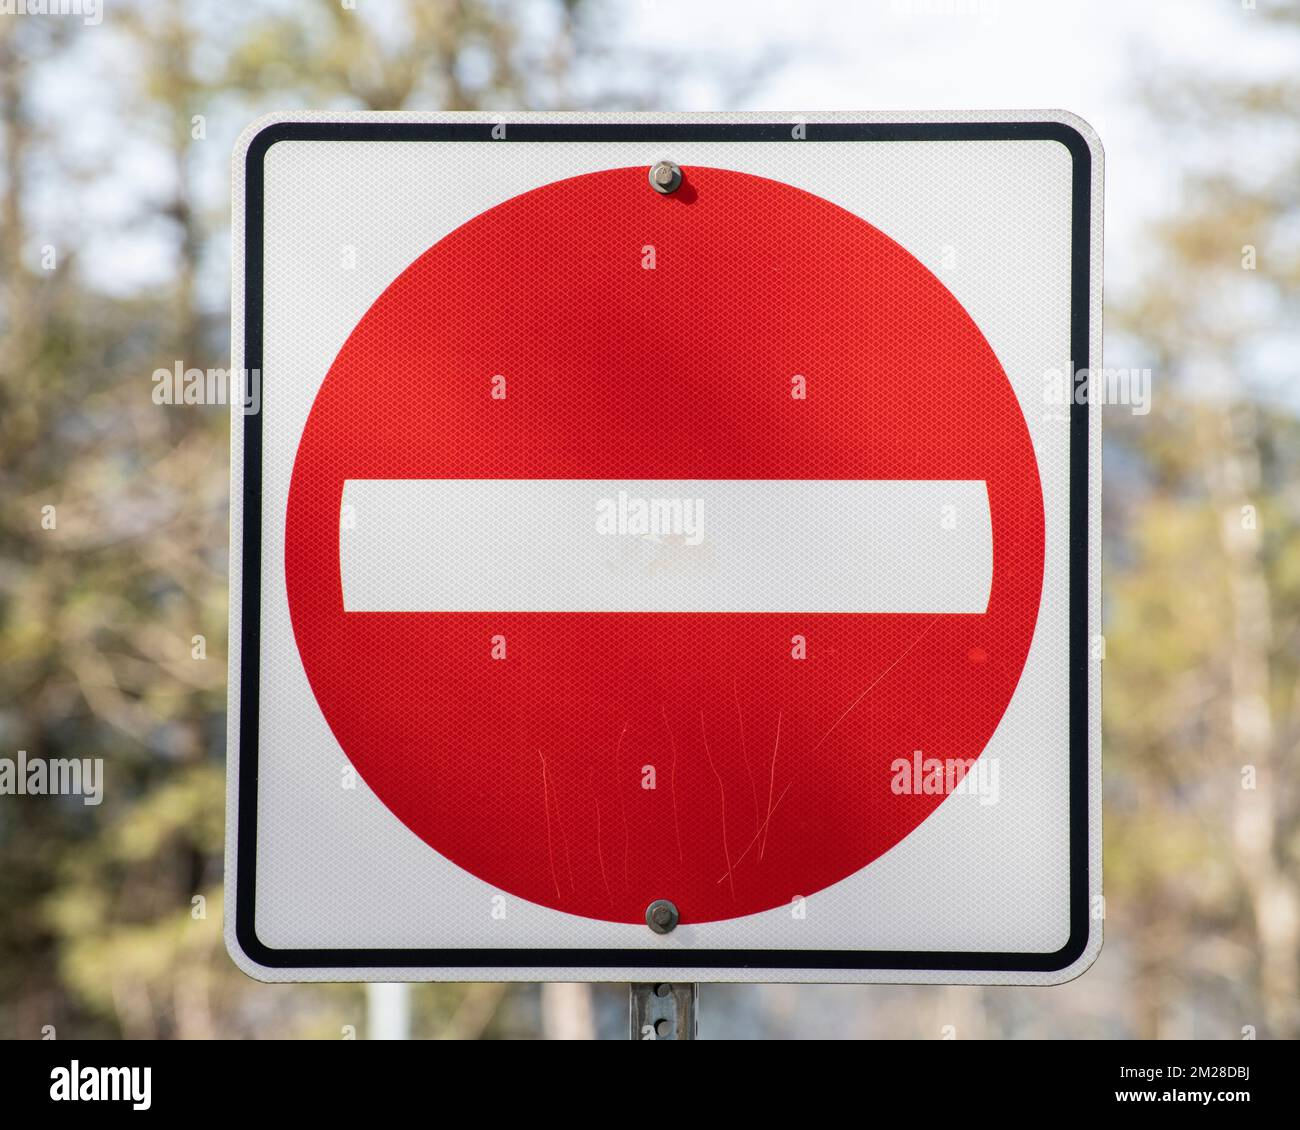sign_noentry: (222, 104, 1107, 980)
